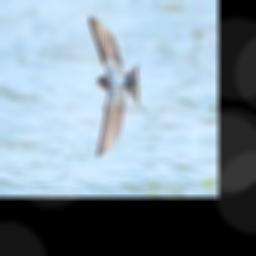Swallow: (89, 15, 147, 157)
